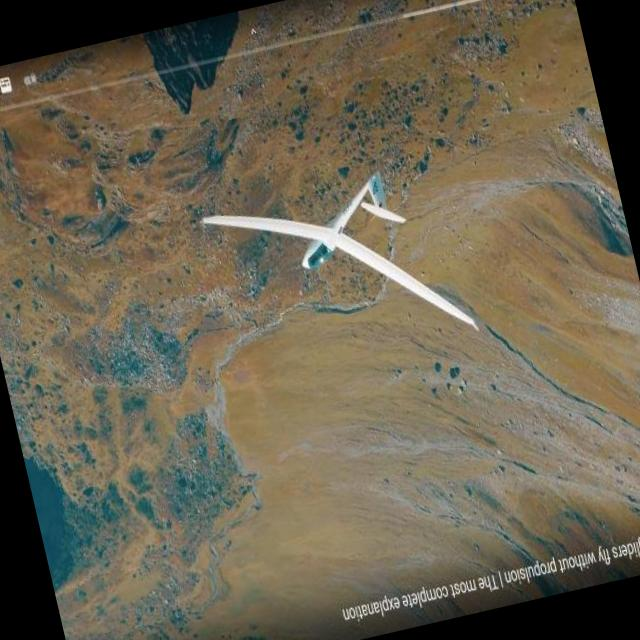UAV: (172, 136, 490, 402)
